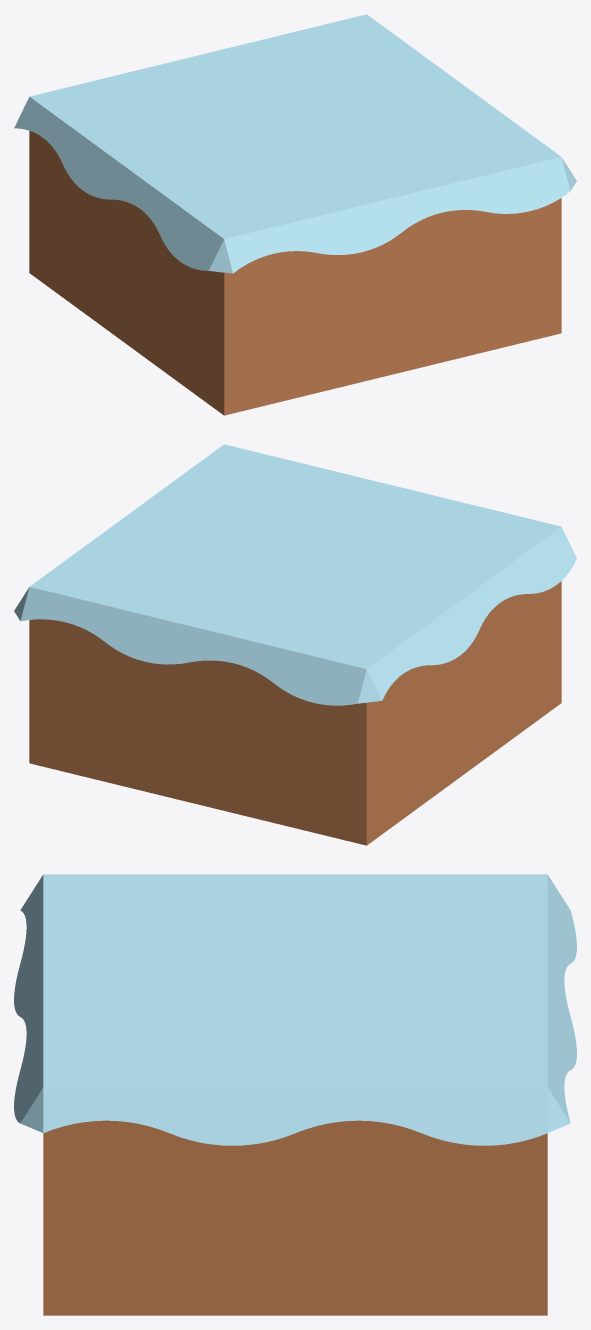
File: blockSnowLarge.obj
3 views of the same model, one above another, from view 1: azimuth 30°, elevation 25°; view 2: azimuth 150°, elevation 25°; view 3: azimuth 270°, elevation 25° (orthographic). The views are drawn at different scales.
Parts seen in each view (by area): view 1: blockSnowLarge; view 2: blockSnowLarge; view 3: blockSnowLarge.
Part boxes in pixels (bbox=[...]): blockSnowLarge: bbox=[14, 14, 576, 415]; blockSnowLarge: bbox=[14, 444, 576, 845]; blockSnowLarge: bbox=[14, 874, 576, 1315].
Bounding box in the file's own units: 2.23 × 1 × 2.23.
